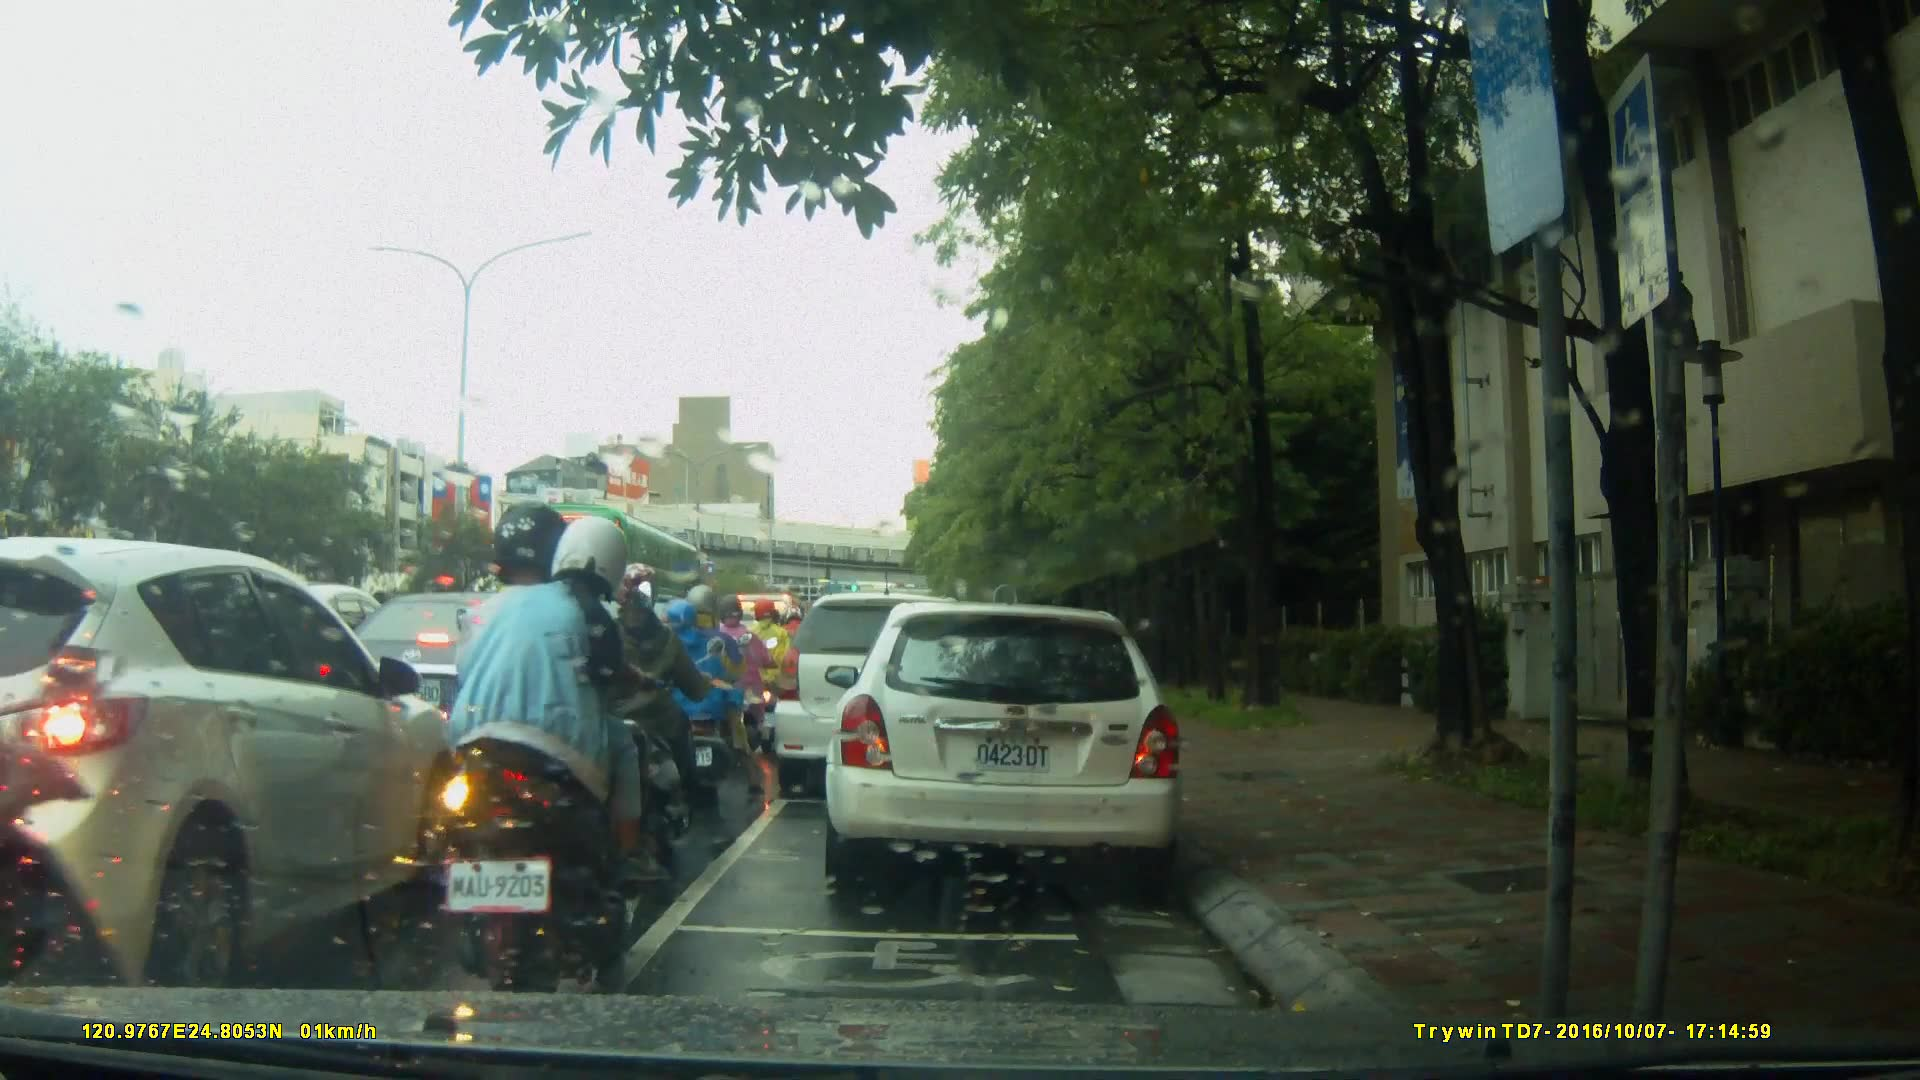rider: (447, 502, 662, 994), (598, 566, 727, 859), (657, 587, 741, 799), (699, 598, 771, 764), (740, 598, 798, 747)
vehicle: (4, 536, 464, 988), (831, 592, 1196, 897), (312, 589, 629, 776), (771, 590, 999, 803), (499, 502, 709, 636)
